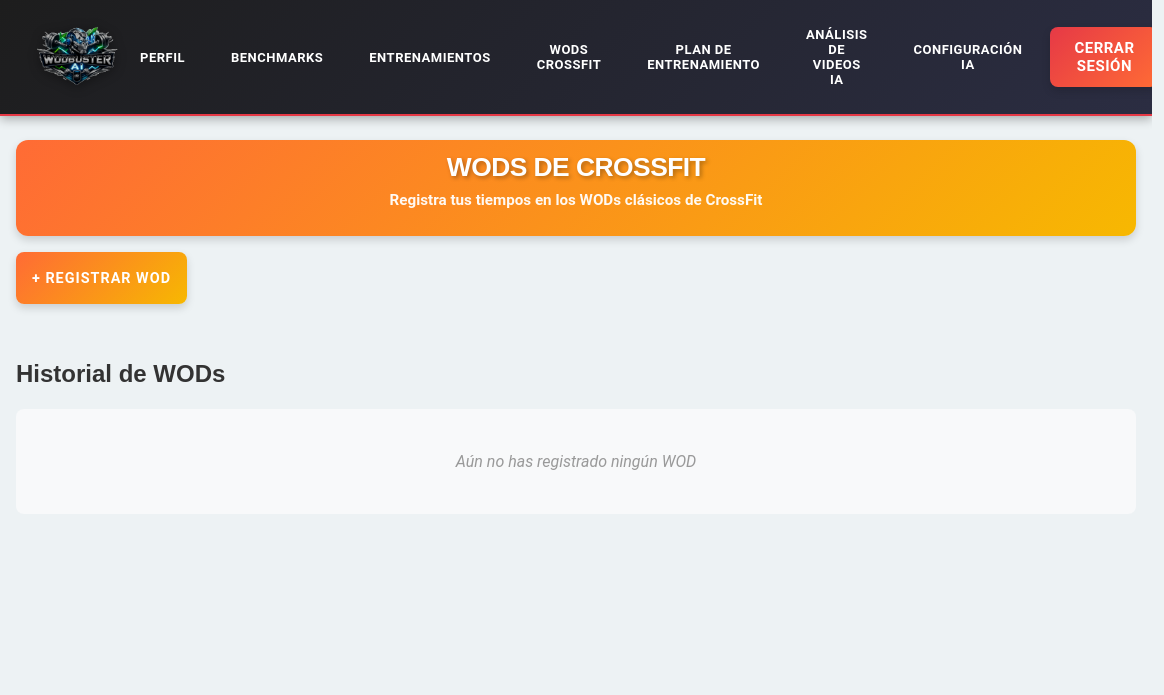
WodsCrossFit (componente) › muestra error si se intenta registrar sin seleccionar wod
Click the button "+ Registrar WOD": (102, 278) 16,252 -> 187,304
(page scrolled)
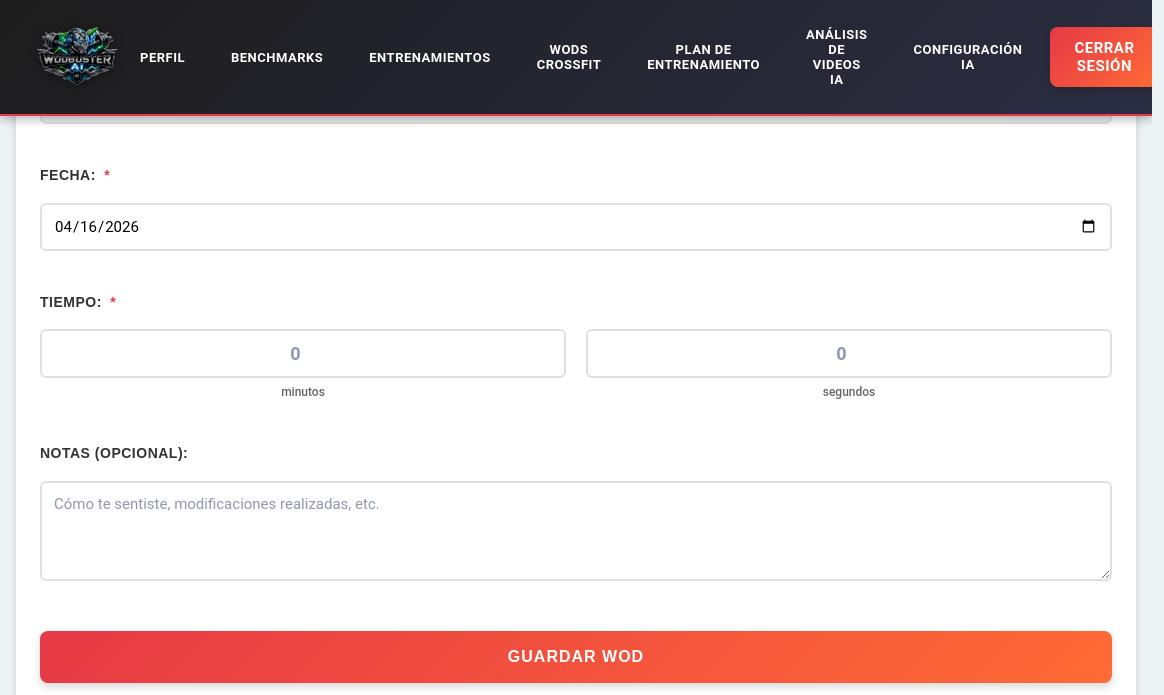
Note: Buscar el formulario por className
Submit the form with class "wod-form"
(page scrolled)
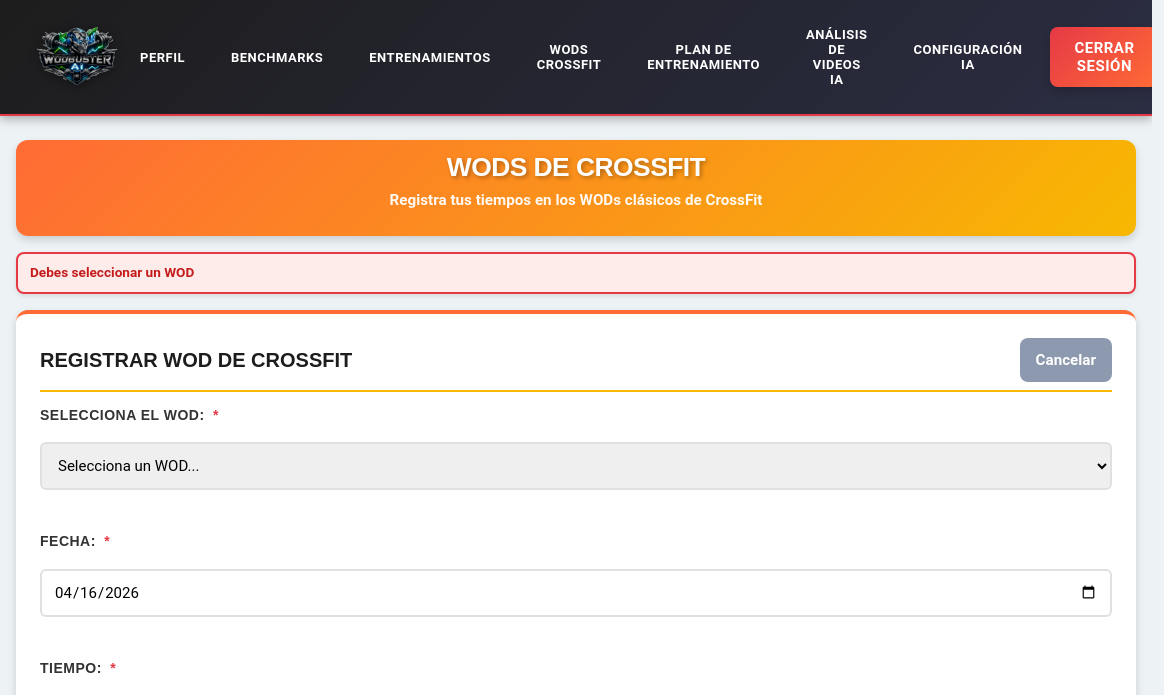
Now the text "Debes seleccionar un WOD" is shown, box 16,252 -> 1136,294
